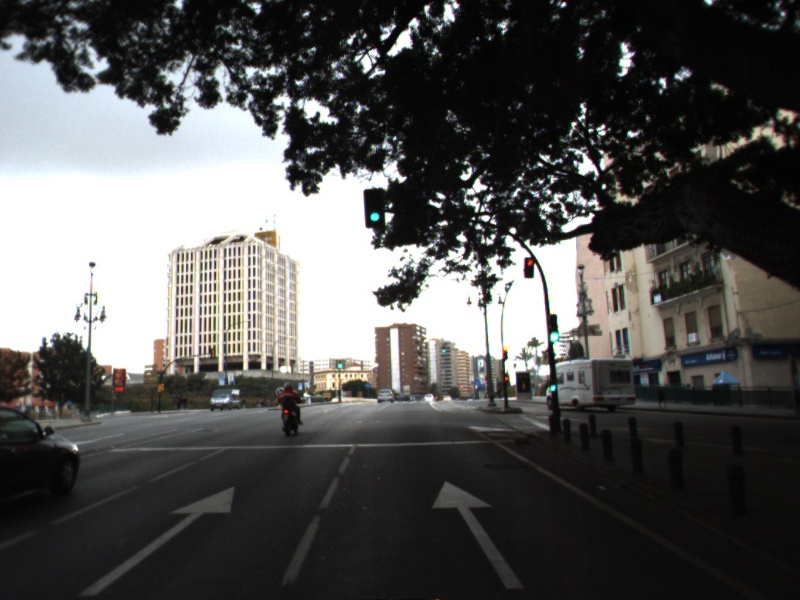STRAIGHT: (78, 481, 238, 598), (428, 477, 530, 591)
